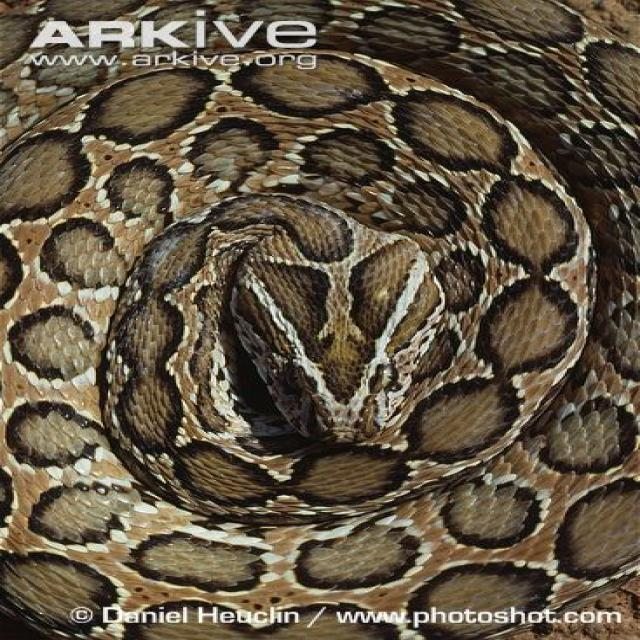Snake: (14, 74, 640, 600)
